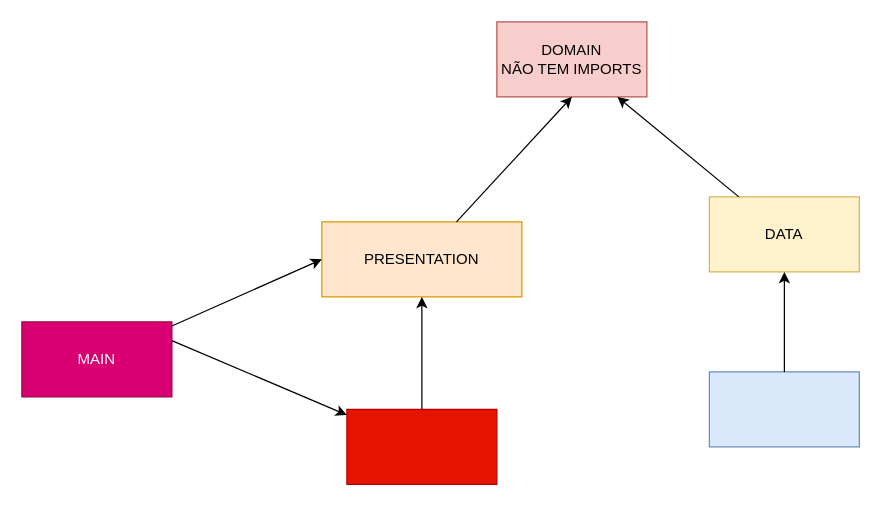
This 881x506 diagram has some shape labels left out. Here are the shapes that lost their labels. From the top down, the centre of each, then its label:
At [783,409]: "INFRA".
At [421,446]: "VALIDATION".
